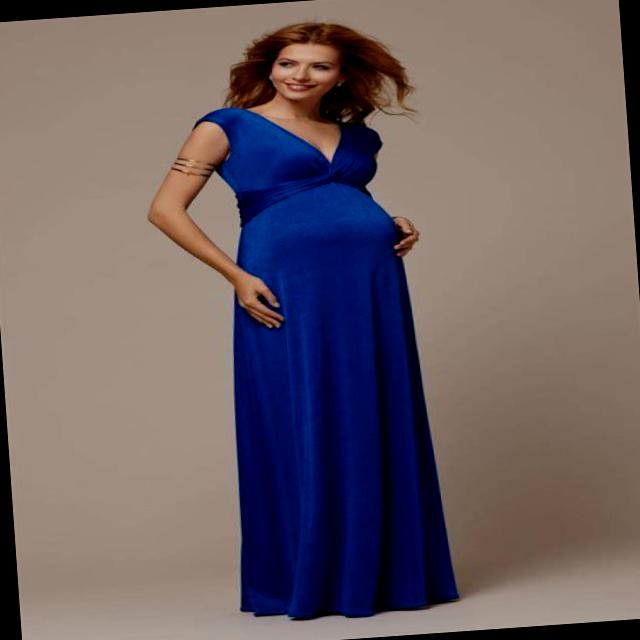dress: (190, 90, 460, 626)
